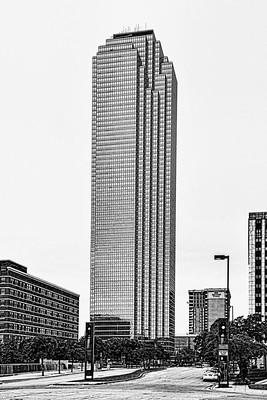building: (85, 26, 177, 364)
